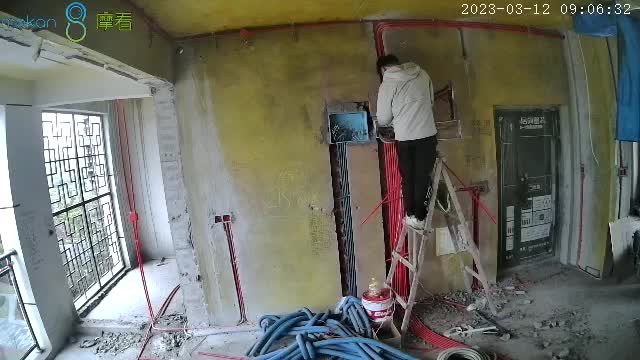people: (372, 55, 437, 232)
window: (41, 110, 125, 300)
